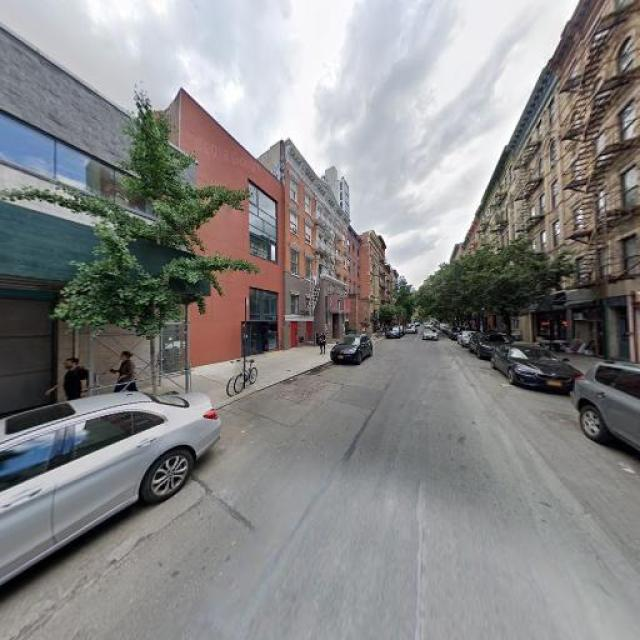Building: (1, 23, 183, 404), (565, 1, 640, 364), (187, 94, 282, 368), (283, 133, 348, 348)
